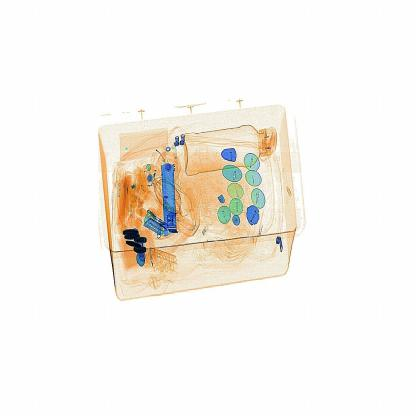pliers: (154, 148, 189, 245)
